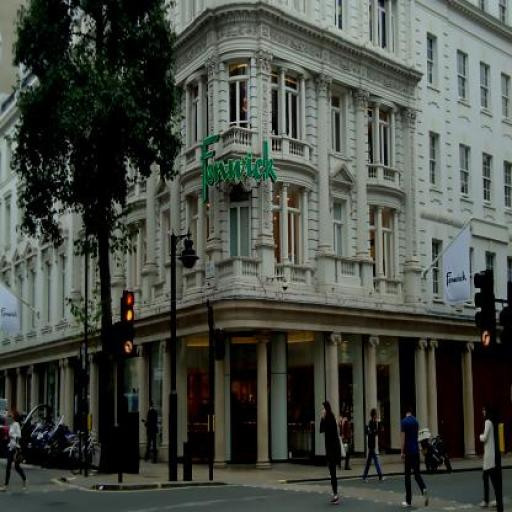street light: (165, 230, 199, 482)
